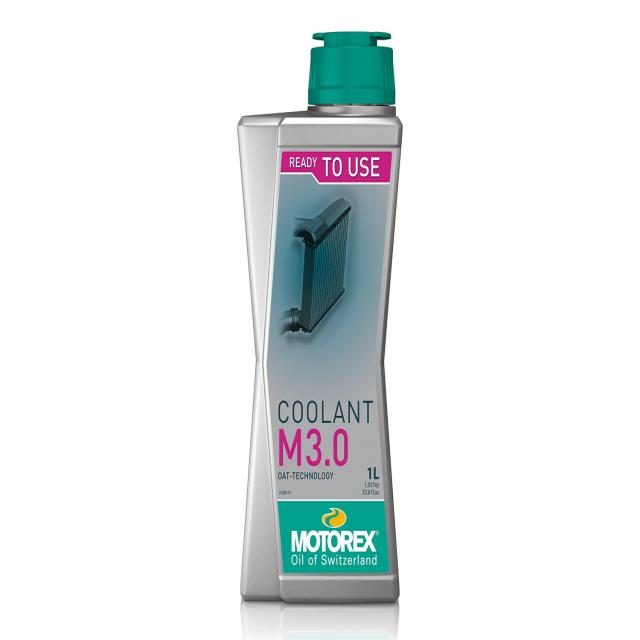coolant: (230, 18, 409, 616)
